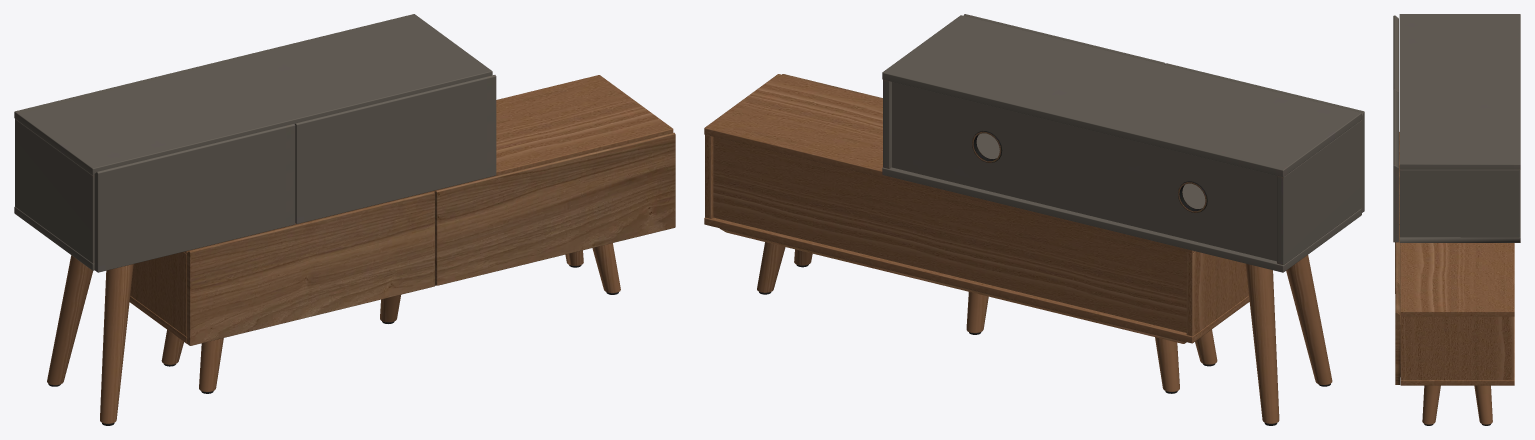
File: B072ZNBWM7.glb
3 views of the same model, side by side, from view 1: azimuth 30°, elevation 25°; view 2: azimuth 150°, elevation 25°; view 3: azimuth 270°, elevation 25° (orthographic). The views are drawn at different scales.
Parts seen in each view (by area): view 1: RootNode; view 2: RootNode; view 3: RootNode.
Part boxes in pixels (bbox=[...]): RootNode: bbox=[14, 14, 675, 425]; RootNode: bbox=[704, 14, 1364, 425]; RootNode: bbox=[1393, 14, 1520, 425].
Bounding box in the file's own units: 1.34 × 0.5909 × 0.3287.
1 material, 1 textured.
